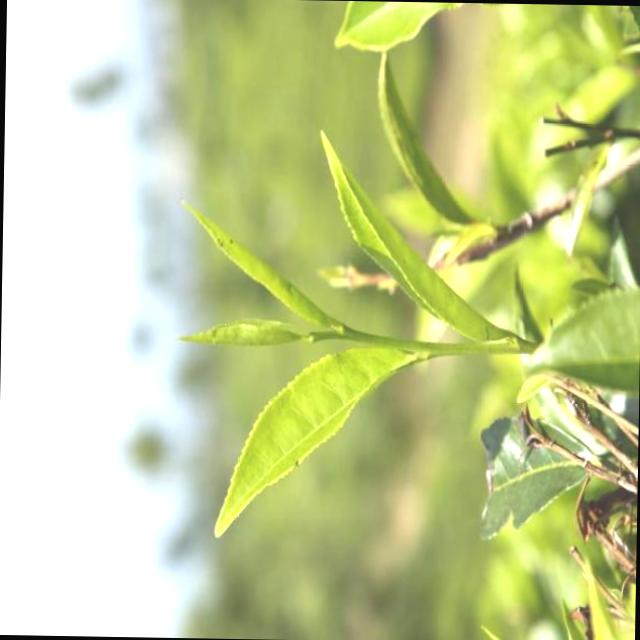Stem: (412, 342, 436, 357)
